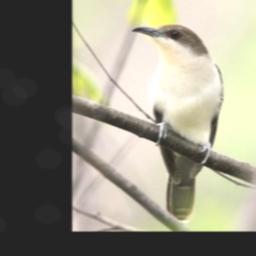Cuckoo: (130, 23, 224, 225)
